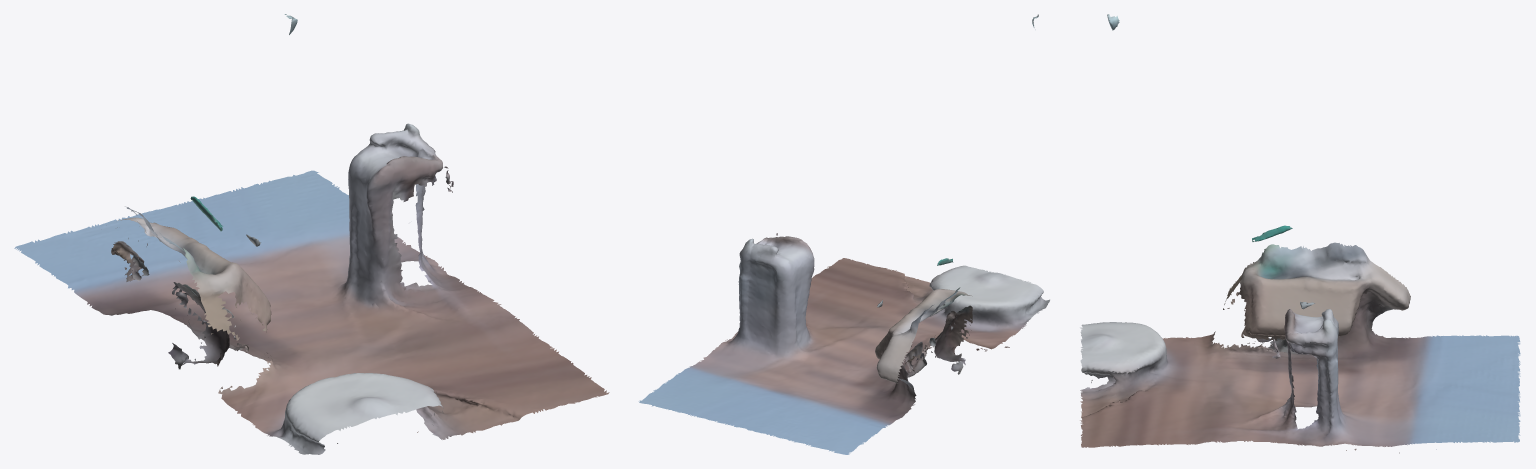
File: apartment-full-46-2ab2c05d1561.glb
3 views of the same model, side by side, from view 1: azimuth 30°, elevation 25°; view 2: azimuth 150°, elevation 25°; view 3: azimuth 270°, elevation 25° (orthographic). The views are drawn at different scales.
Bounding box in the file's own units: 0.816 × 1.18 × 1.38.
